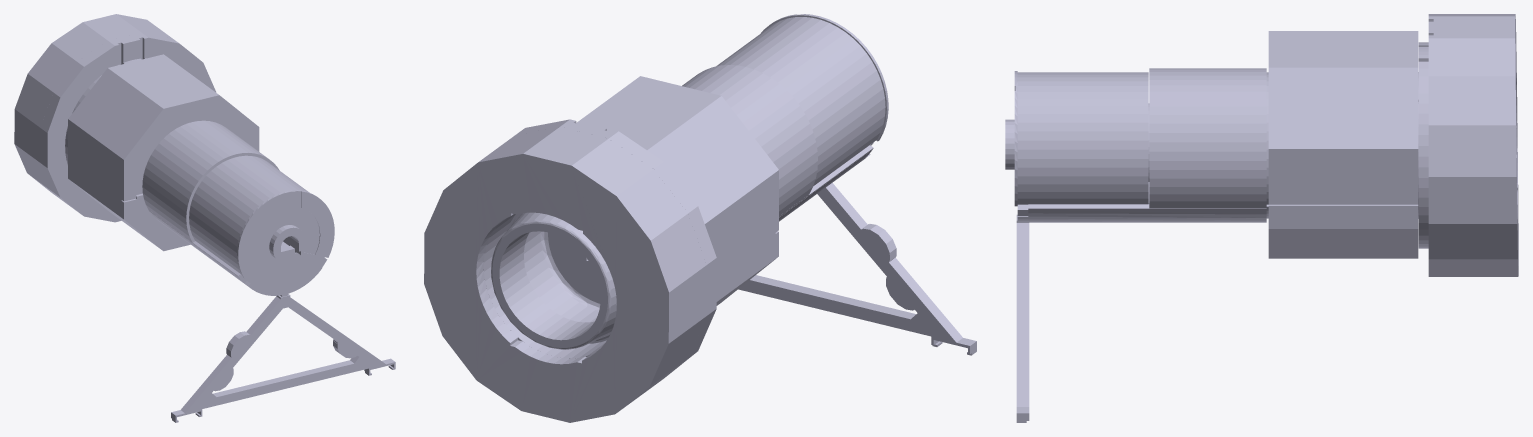
File: Forward-Shielding-SideC.glb
3 renders of one model, left to right at view 1: azimuth 30°, elevation 25°; view 2: azimuth 150°, elevation 25°; view 3: azimuth 270°, elevation 25°, orthographic. The views are drawn at different scales.
Parts seen in each view (by area): view 1: null; view 2: null; view 3: null.
Boxes of the visible parts, x1,y1,x2,y2 form: null: (14,14,395,422); null: (424,14,976,422); null: (1005,14,1518,422).
Bounding box in the file's own units: 6.83 × 7.18 × 10.31.
